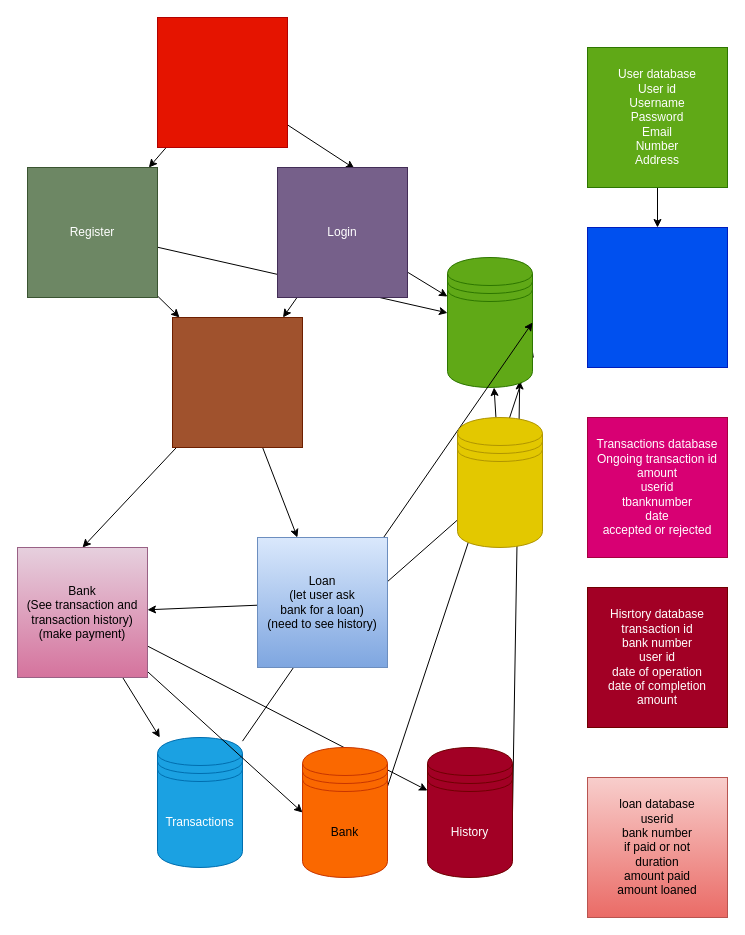
This 745x935 diagram has some shape labels left out. The box of each missing label's shape, as (x1, y1, x2, y2) in pixels:
Bank database bank id user id bank number Amount in it: (586, 226, 728, 368)
Loans: (456, 416, 542, 548)
Main (Let user navigate to different bank application): (172, 316, 302, 448)
User: (446, 256, 532, 388)
Welcome: (156, 16, 288, 148)
